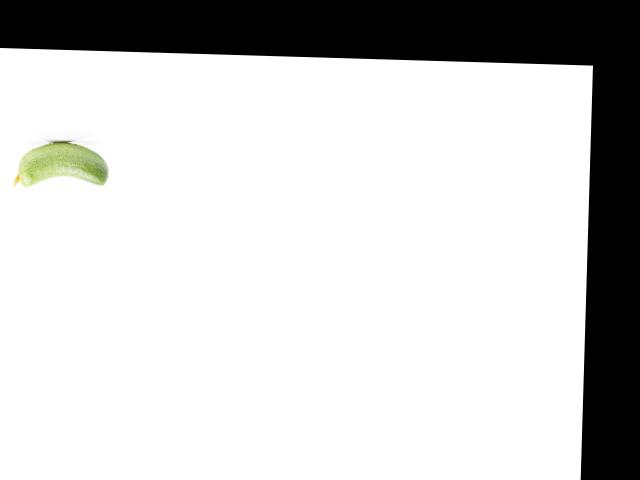cucumber: (13, 139, 110, 189)
